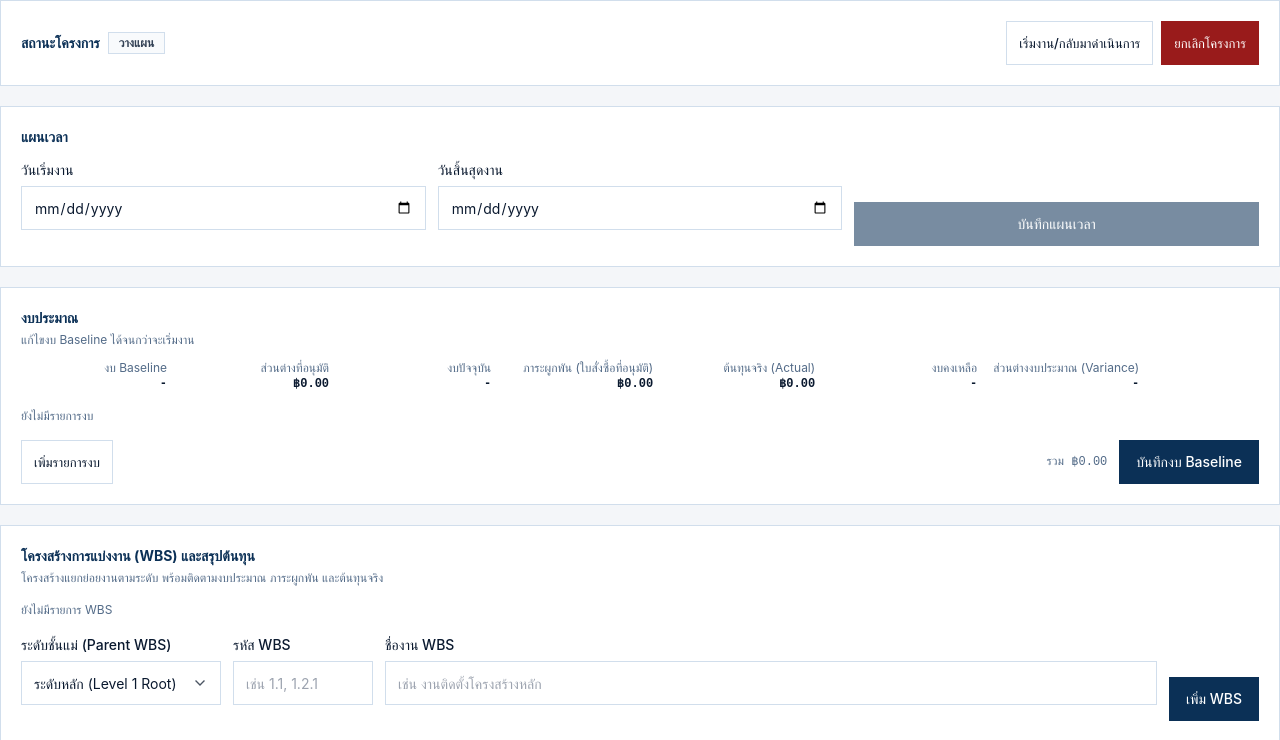
it: ProjectControlPanel › maps a backend error code to its message
Click the button "เริ่มงาน/กลับมาดำเนินการ" at (1080, 43), box [1006,21,1153,65]
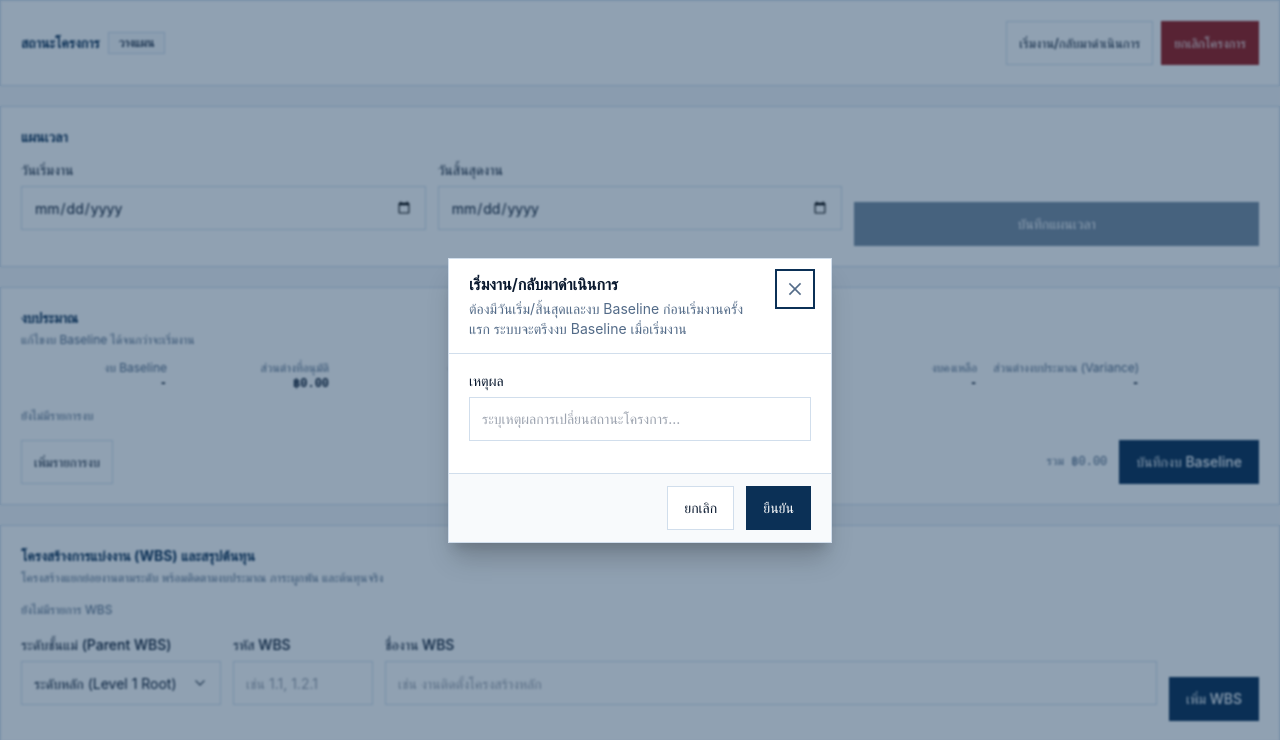
Click the button "ยืนยัน" at (779, 508), box [746,486,811,530]
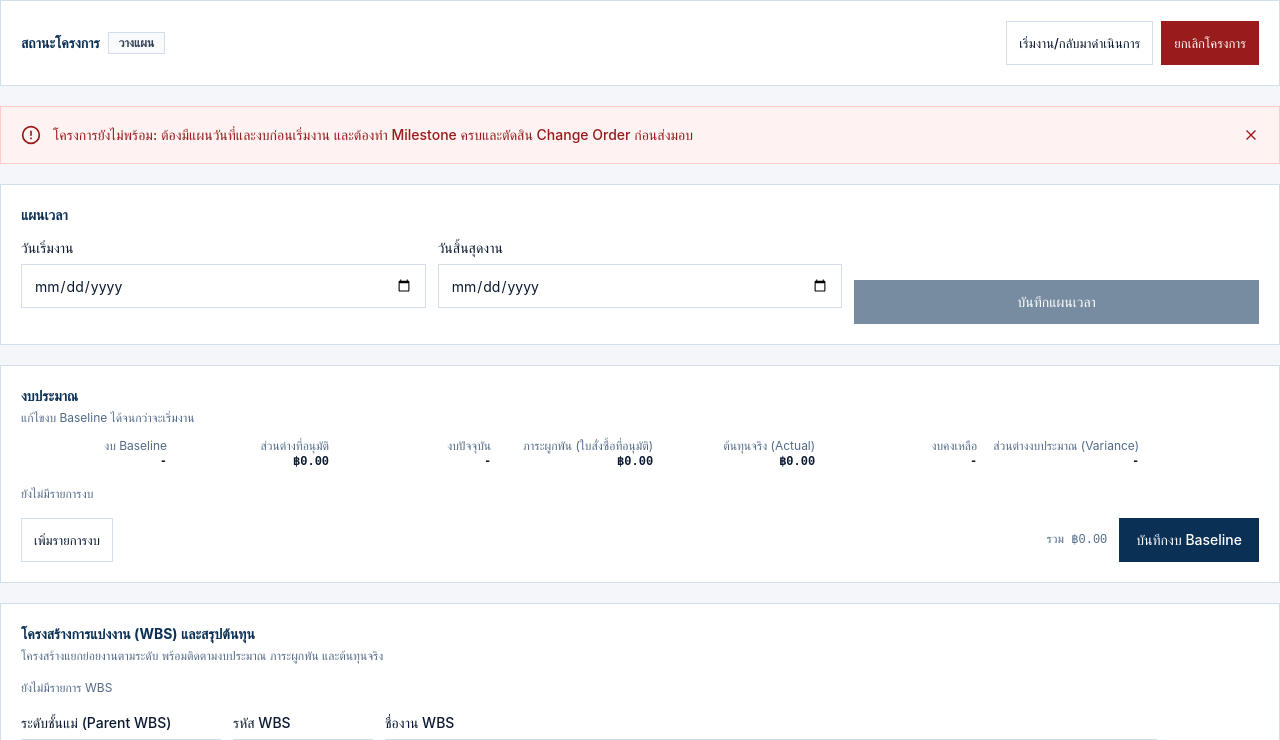
Expected: the text "โครงการยังไม่พร้อม: ต้องมีแผนวันที่และงบก่อนเริ่มงาน และต้องทำ Milestone ครบและตัดสิน Change Order ก่อนส่งมอบ" is shown, [53,126,693,143]
